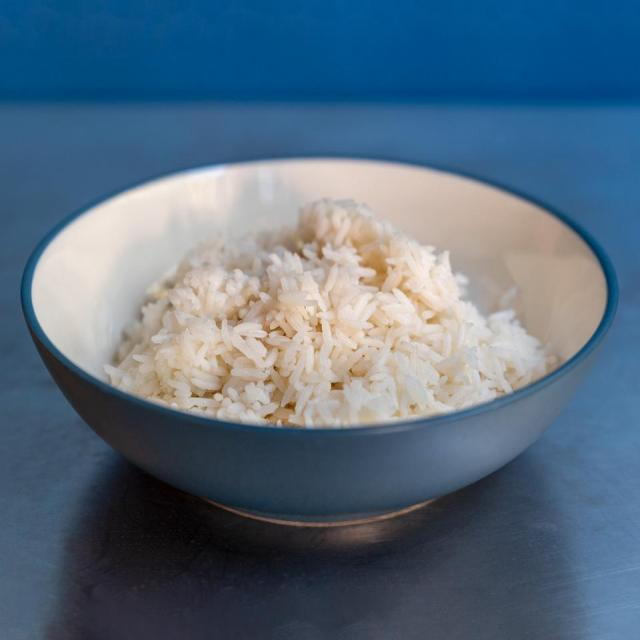rice: (109, 194, 564, 425)
